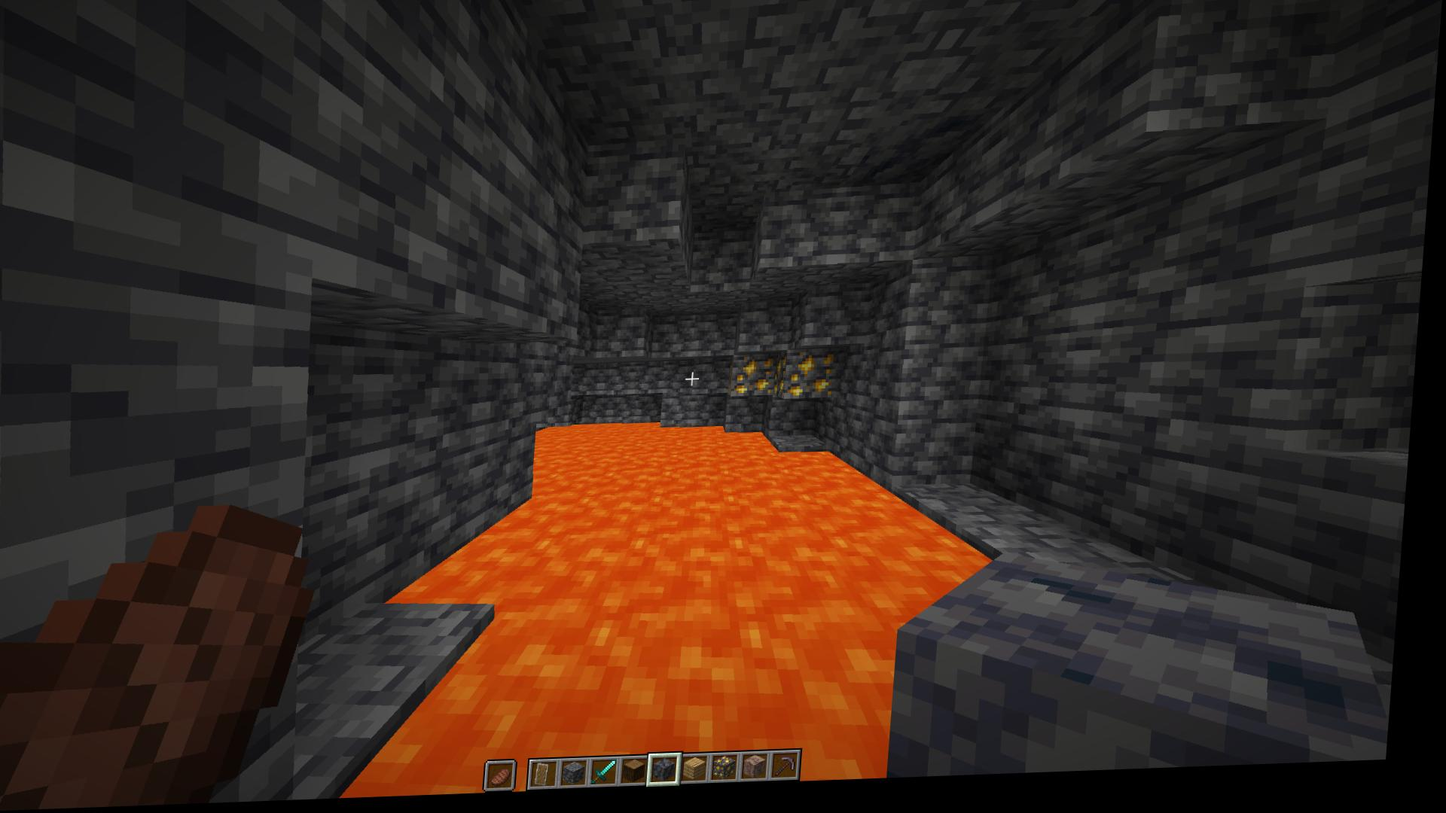gold ore: (781, 358, 844, 406), (735, 359, 784, 405)
